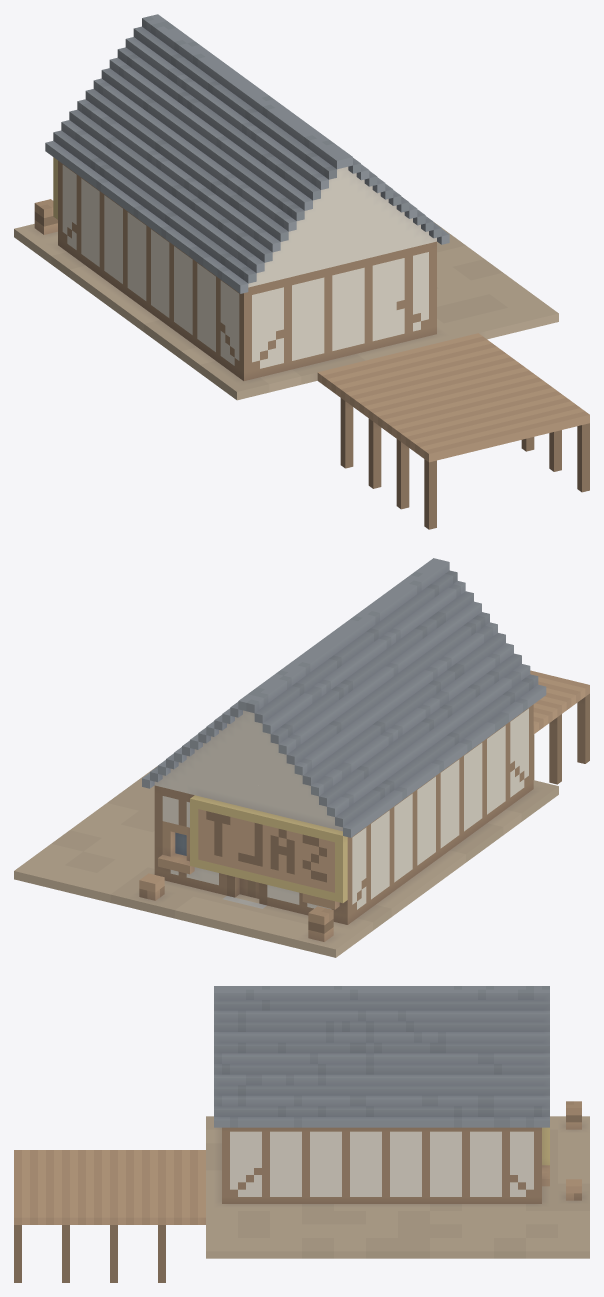
The model's file is salt_pans.glb.
3 views of the same model, one above another, from view 1: azimuth 30°, elevation 25°; view 2: azimuth 150°, elevation 25°; view 3: azimuth 270°, elevation 25° (orthographic). The views are drawn at different scales.
Visible parts, largest first — view 1: salt_pans; view 2: salt_pans; view 3: salt_pans.
Boxes of the visible parts, x1=… form: salt_pans: x1=14, y1=14, x2=589, y2=529; salt_pans: x1=14, y1=558, x2=589, y2=957; salt_pans: x1=14, y1=986, x2=589, y2=1282.
Size of the model in its own units: 5 by 4.12 by 9.
